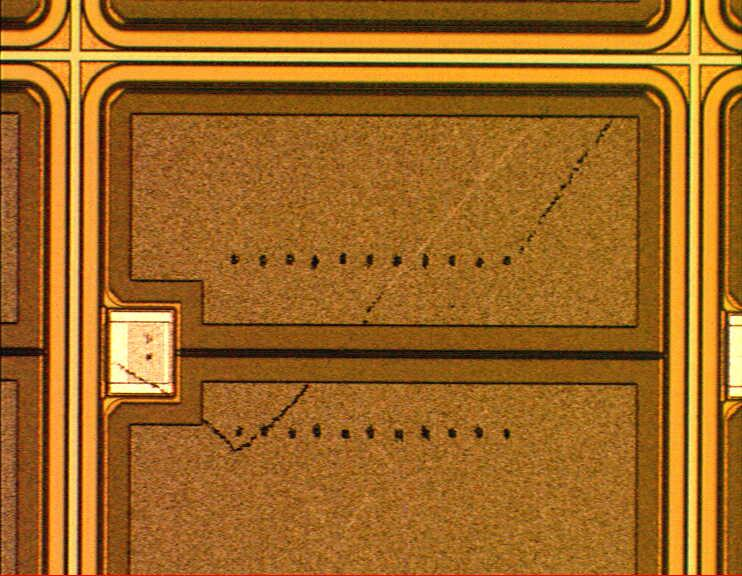SCRATCH: (95, 70, 660, 462)
